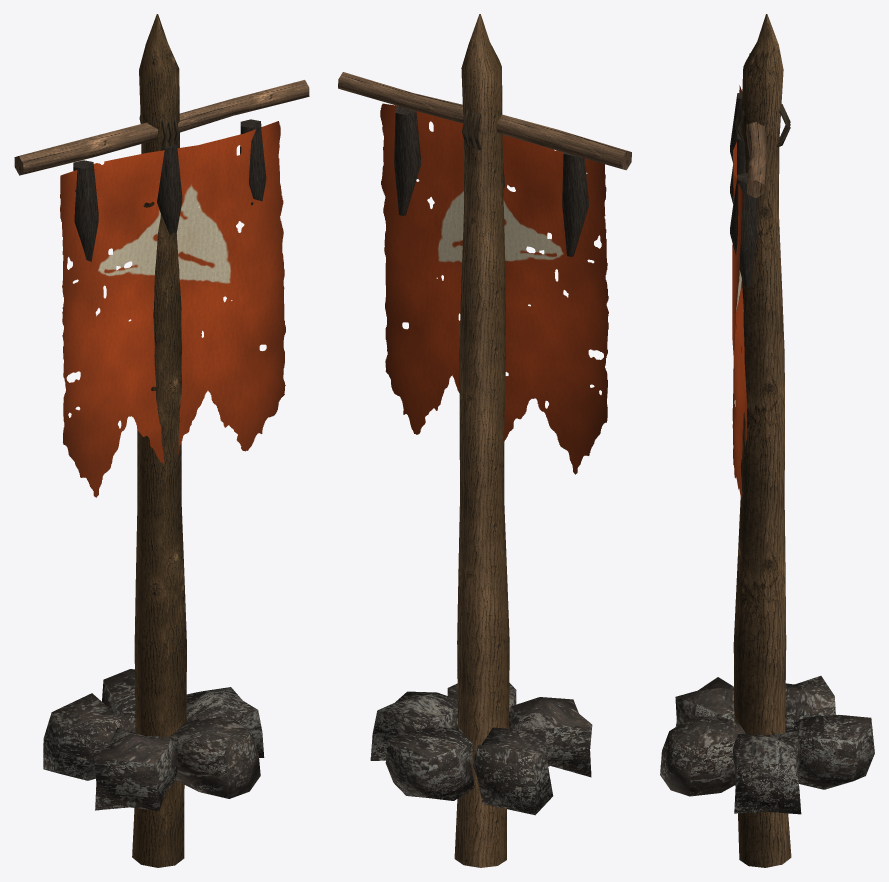
The model's file is SM_Bld_Red_Banner.gltf.
3 views of the same model, side by side, from view 1: azimuth 30°, elevation 25°; view 2: azimuth 150°, elevation 25°; view 3: azimuth 270°, elevation 25° (orthographic).
Visible parts, largest first — view 1: SM_Bld_Red_Banner; view 2: SM_Bld_Red_Banner; view 3: SM_Bld_Red_Banner.
Boxes of the visible parts, box(x1,y1,x2,y2) form: SM_Bld_Red_Banner: box(14, 14, 309, 867); SM_Bld_Red_Banner: box(338, 14, 631, 867); SM_Bld_Red_Banner: box(660, 14, 874, 867).
Size of the model in its own units: 1.7 by 4.81 by 1.11.
Materials: 6 (6 with a texture image).
